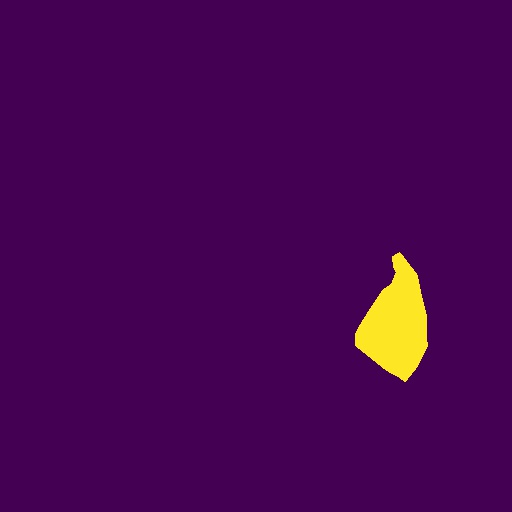Gliomia_tumour: (355, 252, 428, 382)
